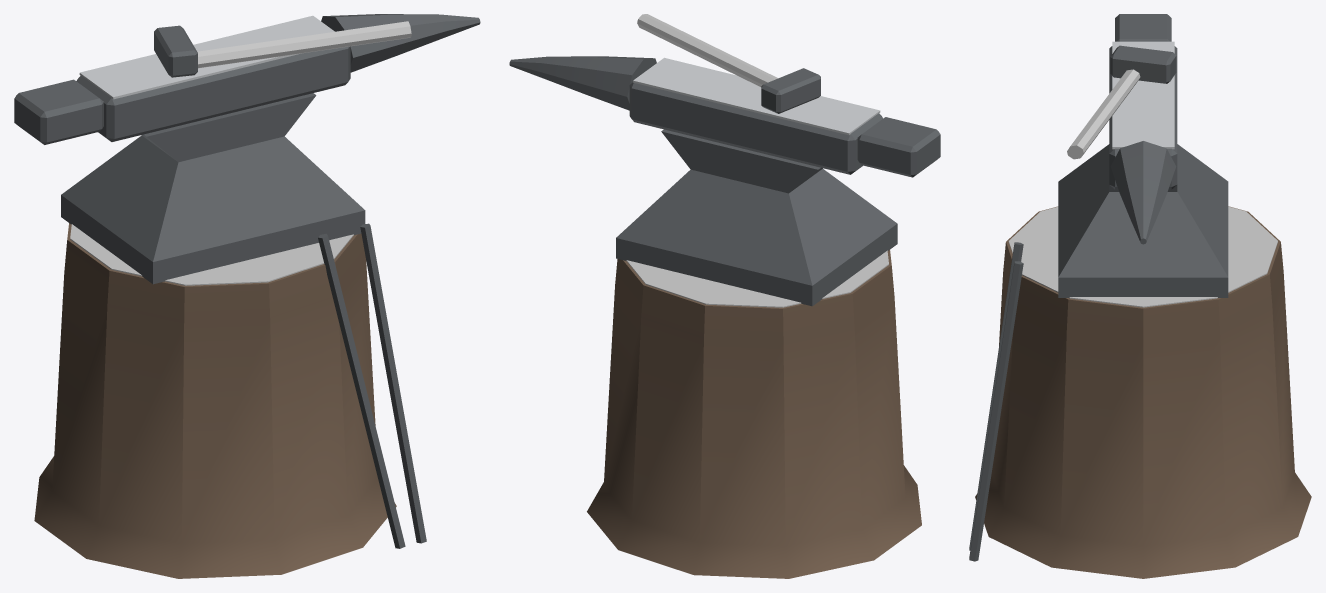
Rendered from furn_anvil.glb.
The picture shows the model from 3 angles, left to right: view 1: azimuth 30°, elevation 25°; view 2: azimuth 150°, elevation 25°; view 3: azimuth 270°, elevation 25°; orthographic projection. The views are drawn at different scales.
Parts seen in each view (by area): view 1: furn_anvil; view 2: furn_anvil; view 3: furn_anvil.
Part boxes in pixels (bbox=[...]): furn_anvil: bbox=[14, 14, 480, 578]; furn_anvil: bbox=[509, 14, 940, 578]; furn_anvil: bbox=[969, 14, 1311, 578].
Size of the model in its own units: 0.85 by 0.8524 by 0.6042.
